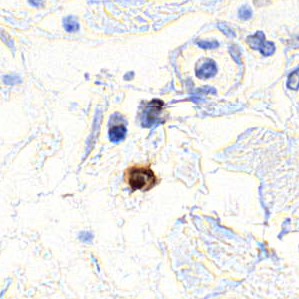Lymphocyte: (124, 163, 160, 193)
